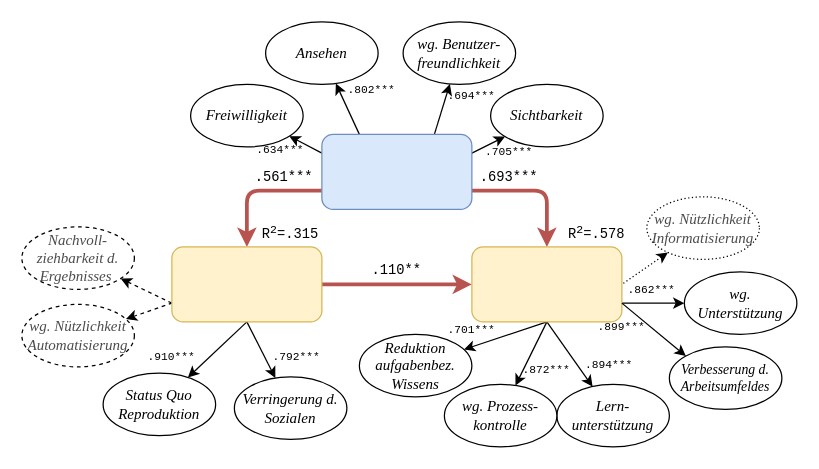
This 819x469 diagram has some shape labels left out. The centre of each missing label's shape, as x and y in pixels:
"Effekte der Automatisierung" belongs at point 246,284.
"Effekte der Informatisierung" belongs at point 546,284.
"Einführung von IT" belongs at point 396,171.
